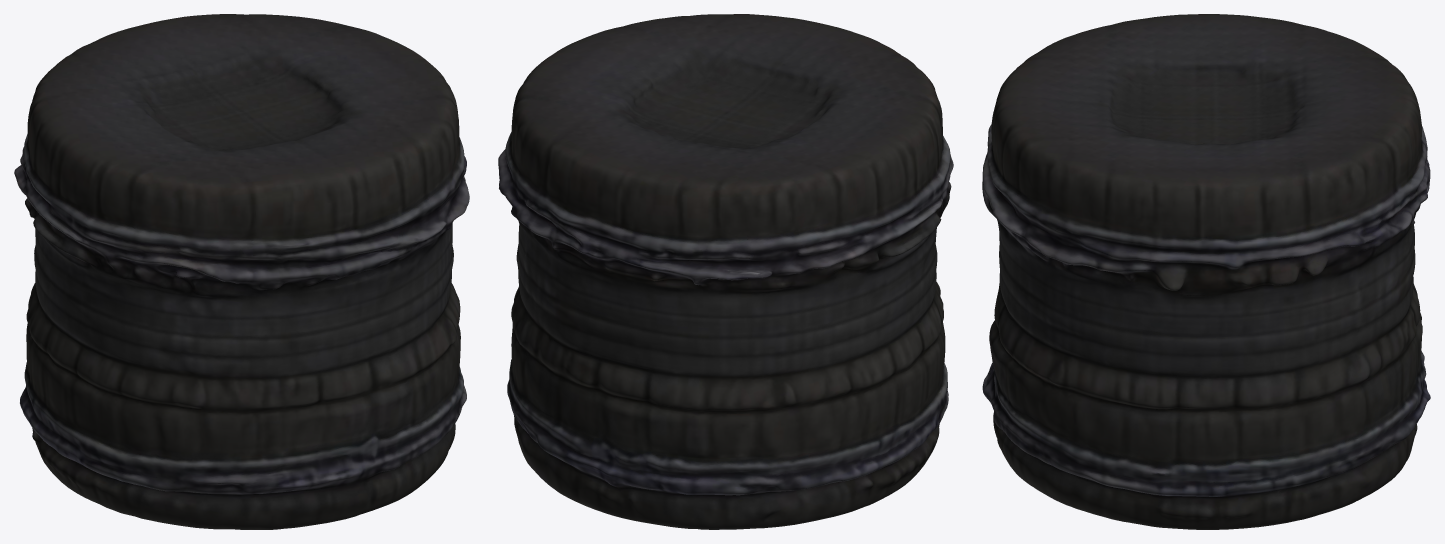
The model's file is barricade.glb.
3 views of the same model, side by side, from view 1: azimuth 30°, elevation 25°; view 2: azimuth 150°, elevation 25°; view 3: azimuth 270°, elevation 25° (orthographic).
Parts seen in each view (by area): view 1: world; view 2: world; view 3: world.
Boxes of the visible parts, bbox=[...] form: world: bbox=[14, 14, 469, 529]; world: bbox=[498, 14, 953, 529]; world: bbox=[982, 14, 1430, 529].
Size of the model in its own units: 0.4764 by 0.4103 by 0.4782.
Materials: 1 (1 with a texture image).
